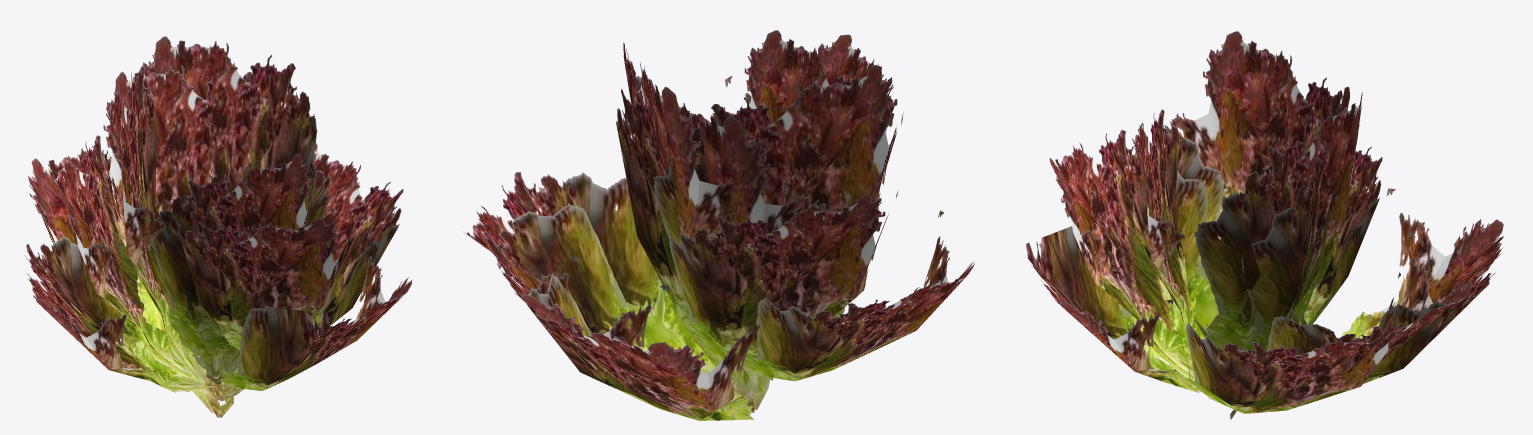
Rendered from RedLeaf.FBX.
3 renders of one model, left to right at view 1: azimuth 30°, elevation 25°; view 2: azimuth 150°, elevation 25°; view 3: azimuth 270°, elevation 25°, orthographic. The views are drawn at different scales.
Visible parts, largest first — view 1: Mesh1220; view 2: Mesh1220; view 3: Mesh1220.
Part boxes in pixels (box(x1,y1,x2,y2)): Mesh1220: box(24, 36, 412, 417); Mesh1220: box(462, 30, 974, 420); Mesh1220: box(1026, 31, 1503, 419).
Bounding box in the file's own units: 1.99 × 2.15 × 1.67.
Materials: 1 (1 with a texture image).
